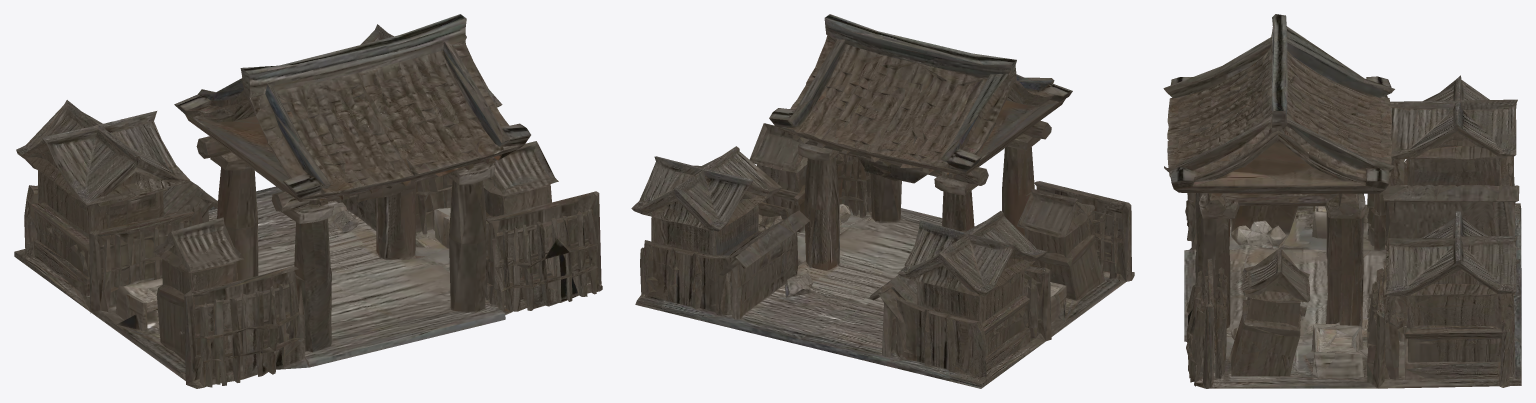
File: gatehouse.glb
3 renders of one model, left to right at view 1: azimuth 30°, elevation 25°; view 2: azimuth 150°, elevation 25°; view 3: azimuth 270°, elevation 25°, orthographic. The views are drawn at different scales.
Parts seen in each view (by area): view 1: Mesh_0; view 2: Mesh_0; view 3: Mesh_0.
Boxes of the visible parts, x1,y1,x2,y2 form: Mesh_0: (14, 14, 602, 388); Mesh_0: (631, 14, 1134, 388); Mesh_0: (1163, 14, 1521, 388).
Bounding box in the file's own units: 1.89 × 1.13 × 1.55.
1 material, 1 textured.
